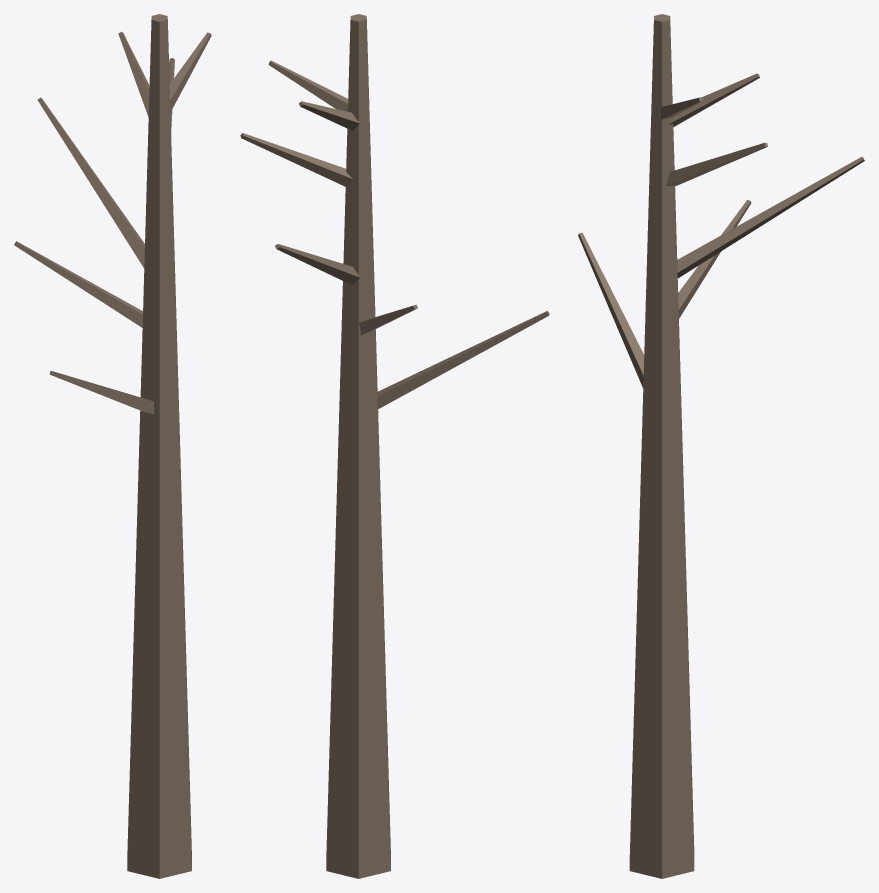
The model's file is node_tree_arid_0.glb.
3 renders of one model, left to right at view 1: azimuth 30°, elevation 25°; view 2: azimuth 150°, elevation 25°; view 3: azimuth 270°, elevation 25°, orthographic.
Visible parts, largest first — view 1: node_tree_arid_0; view 2: node_tree_arid_0; view 3: node_tree_arid_0.
Boxes of the visible parts, box(x1,y1,x2,y2) form: node_tree_arid_0: box(14, 14, 211, 878); node_tree_arid_0: box(240, 14, 549, 878); node_tree_arid_0: box(578, 14, 864, 878).
Bounding box in the file's own units: 1.37 × 5 × 1.54.
